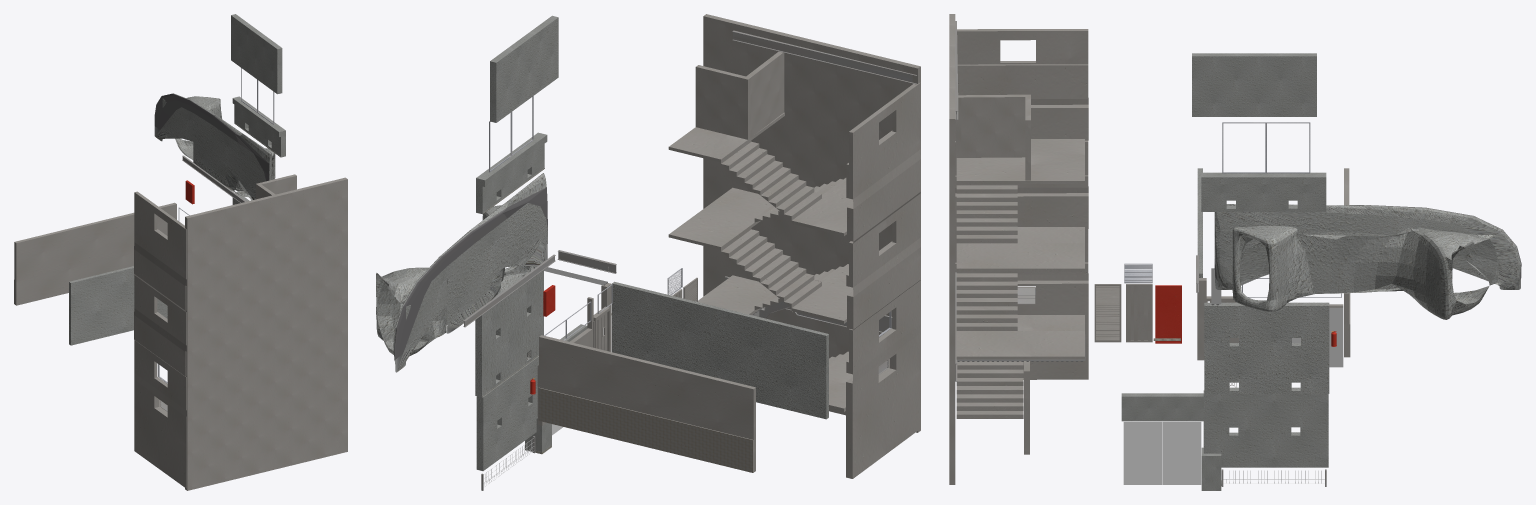
File: Catolica_Modelo.fbx
3 renders of one model, left to right at view 1: azimuth 30°, elevation 25°; view 2: azimuth 150°, elevation 25°; view 3: azimuth 270°, elevation 25°, orthographic. The views are drawn at different scales.
Visible parts, largest first — view 1: Escada_Parede_Lateral, Escada_Parede_Fundo, Parede_Interna_Corredor_Lateral, Parede_Esterna_Varanda_Segundo, Parede_Lateral, Parede_Externa_Superior, Parede_Esterna_Corredor_Terceiro, Escada_Parede_Terceiro, Viga _Horizontal_Geral; view 2: Escada_Parede_Fundo, Escada_Parede_Lateral, Escadaria, Parede_Interna_Corredor_Lateral, Parede_Lateral, Parede_Esterna_Varanda_Segundo, Escada_Parede_Terceiro, Parede_Esterna_Corredor_Geral, Parede_Esterna_Corredor_Terreo, Parede_Externa_Superior, Parede_Esterna_Corredor_Terceiro, Escada_Viga_Teto (+3 smaller); view 3: Parede_Esterna_Varanda_Segundo, Escadaria, Escada_Parede_Fundo, Parede_Esterna_Corredor_Geral, Parede_Esterna_Corredor_Terreo, Parede_Externa_Superior, Porta_VidroFolha, Parede_Esterna_Corredor_Terceiro, Escada_Parede_Terceiro, Escada_Parede_Lateral, Parede_Sup_Por_Vidro, Porta_Comum (+8 smaller).
Part boxes in pixels (left/top/right/bottom): Escada_Parede_Lateral: left=185, top=177, right=347, bottom=490; Escada_Parede_Fundo: left=134, top=191, right=186, bottom=487; Parede_Interna_Corredor_Lateral: left=14, top=202, right=176, bottom=305; Parede_Esterna_Varanda_Segundo: left=154, top=93, right=275, bottom=200; Parede_Lateral: left=69, top=266, right=167, bottom=345; Parede_Externa_Superior: left=231, top=14, right=282, bottom=94; Parede_Esterna_Corredor_Terceiro: left=232, top=96, right=285, bottom=157; Escada_Parede_Terceiro: left=256, top=174, right=296, bottom=199; Viga _Horizontal_Geral: left=182, top=155, right=246, bottom=202; Escada_Parede_Fundo: left=846, top=82, right=920, bottom=478; Escada_Parede_Lateral: left=703, top=14, right=920, bottom=432; Escadaria: left=668, top=112, right=889, bottom=411; Parede_Interna_Corredor_Lateral: left=538, top=335, right=755, bottom=472; Parede_Lateral: left=612, top=281, right=828, bottom=419; Parede_Esterna_Varanda_Segundo: left=376, top=173, right=547, bottom=372; Escada_Parede_Terceiro: left=695, top=51, right=784, bottom=139; Parede_Esterna_Corredor_Geral: left=475, top=268, right=543, bottom=397; Parede_Esterna_Corredor_Terreo: left=476, top=356, right=538, bottom=470; Parede_Externa_Superior: left=490, top=15, right=558, bottom=122; Parede_Esterna_Corredor_Terceiro: left=476, top=132, right=547, bottom=214; Escada_Viga_Teto: left=732, top=30, right=916, bottom=84; Parede_Esterna_Varanda_Segundo: left=1214, top=204, right=1521, bottom=319; Escadaria: left=956, top=139, right=1084, bottom=418; Escada_Parede_Fundo: left=955, top=29, right=1088, bottom=379; Parede_Esterna_Corredor_Geral: left=1204, top=302, right=1329, bottom=393; Parede_Esterna_Corredor_Terreo: left=1203, top=390, right=1328, bottom=467; Parede_Externa_Superior: left=1192, top=53, right=1316, bottom=116; Porta_VidroFolha: left=1123, top=421, right=1201, bottom=484; Parede_Esterna_Corredor_Terceiro: left=1201, top=172, right=1326, bottom=211; Escada_Parede_Terceiro: left=956, top=94, right=1030, bottom=180; Escada_Parede_Lateral: left=949, top=14, right=955, bottom=484; Parede_Sup_Por_Vidro: left=1121, top=393, right=1203, bottom=421; Porta_Comum: left=1094, top=284, right=1121, bottom=342.
Size of the model in its own units: 1252 by 1618 by 1887.
